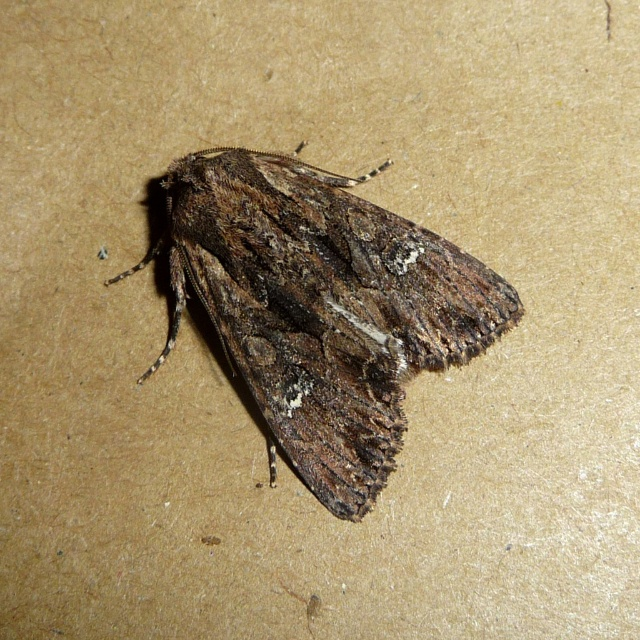Moths and butterflies: (103, 138, 526, 520)
